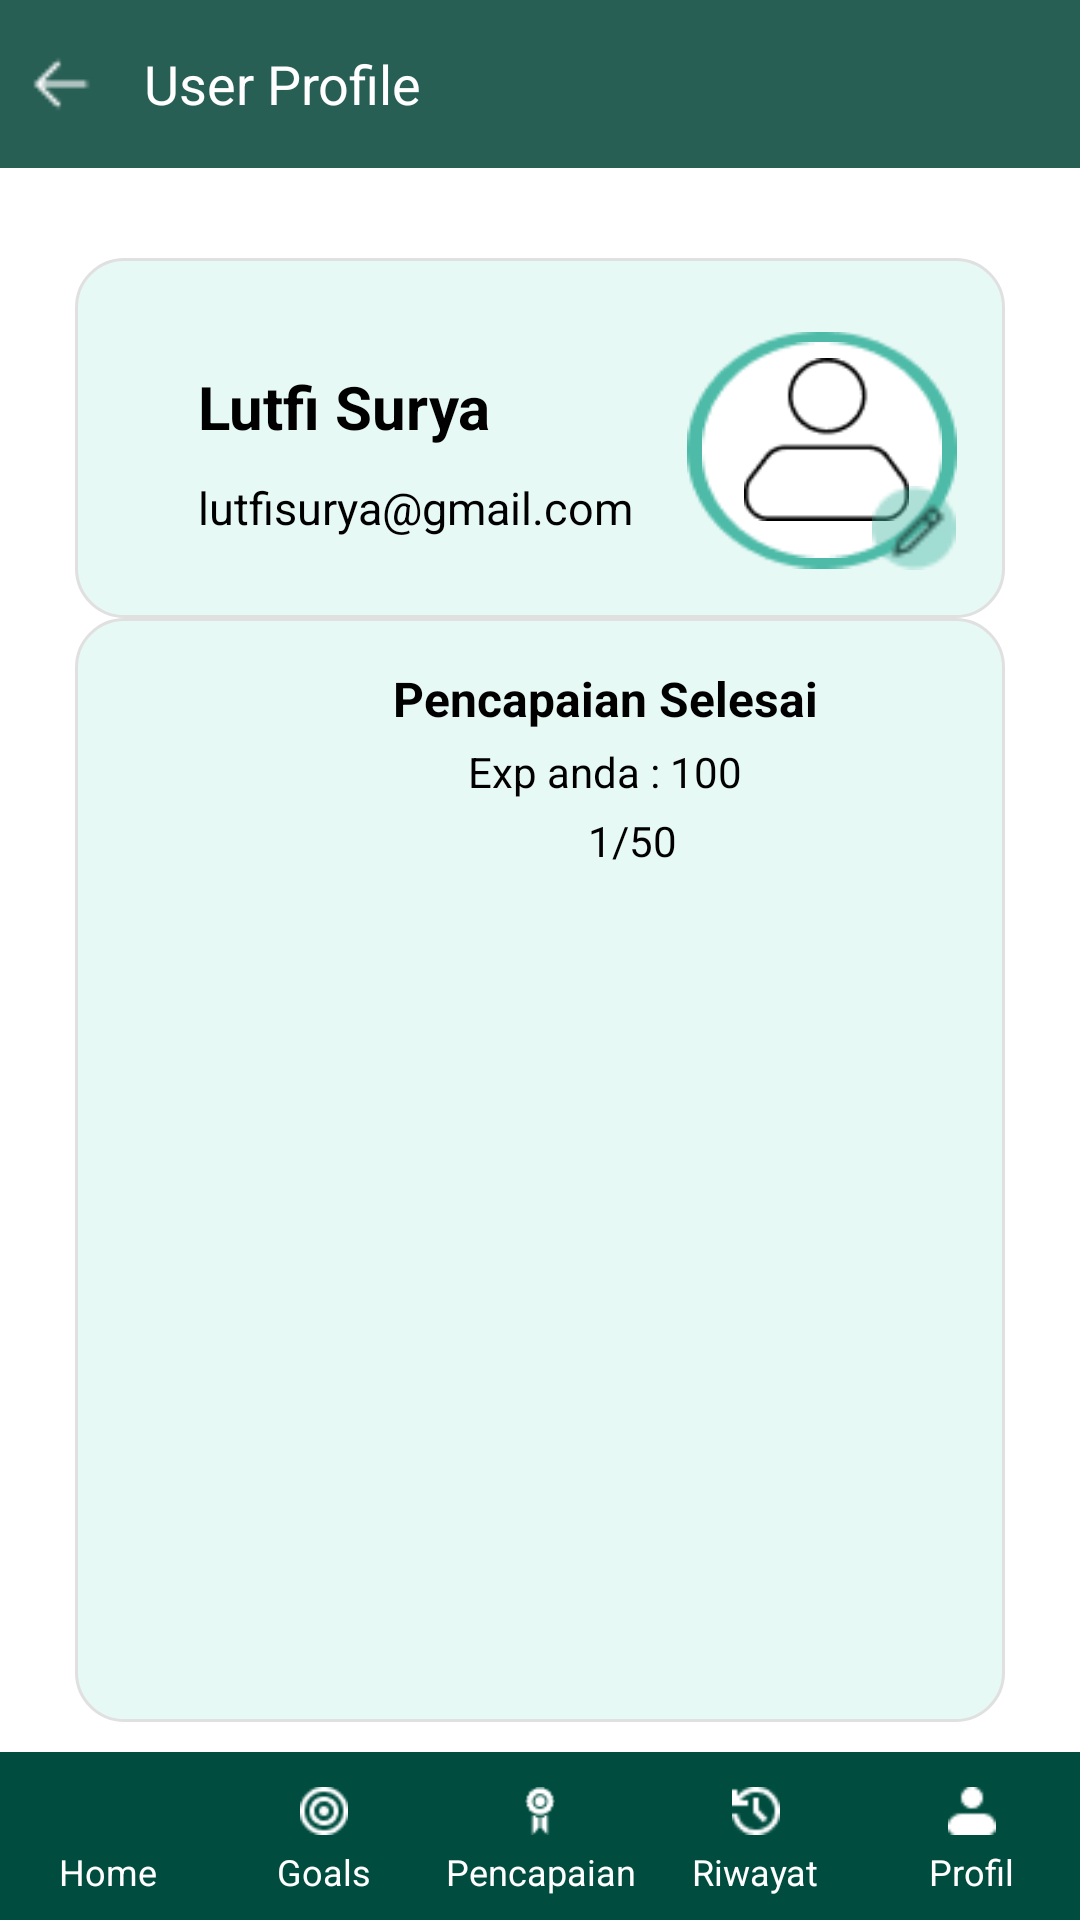

Icon bounding boxes for this 1080w x 1920h phone screenshot, format (x1, y1, x2, y2):
Back button: (34, 59, 89, 109)
